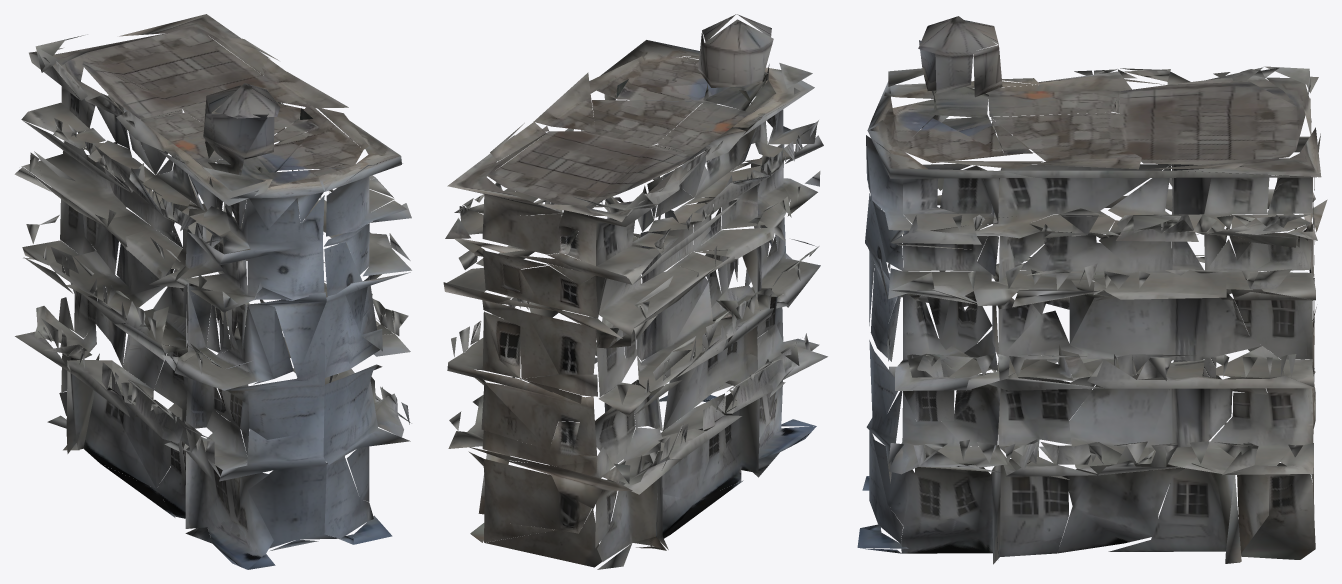
File: apartments_lod1.glb
3 views of the same model, side by side, from view 1: azimuth 30°, elevation 25°; view 2: azimuth 150°, elevation 25°; view 3: azimuth 270°, elevation 25° (orthographic). The views are drawn at different scales.
Visible parts, largest first — view 1: body; view 2: body; view 3: body.
Part boxes in pixels (x1,y1,x2,y2): body: (14, 14, 411, 569); body: (443, 14, 827, 569); body: (857, 16, 1327, 564).
Bounding box in the file's own units: 6.77 × 13.48 × 11.73.
Materials: 1 (1 with a texture image).
